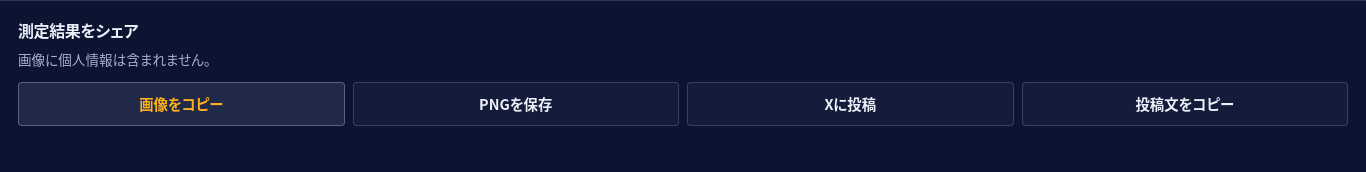
it: ShareResultButton › PNG保存で既存の画像生成・ファイル名・ダウンロード処理を使う
Click the button "PNGを保存": (516, 104) [352, 82, 679, 126]
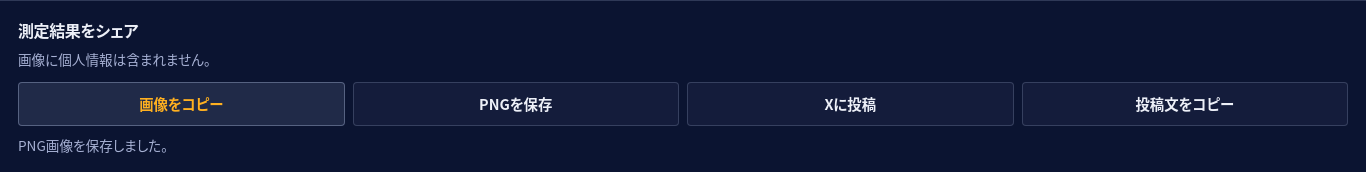
Check: the message reads "PNG画像を保存しました。", box [18, 135, 168, 155]
